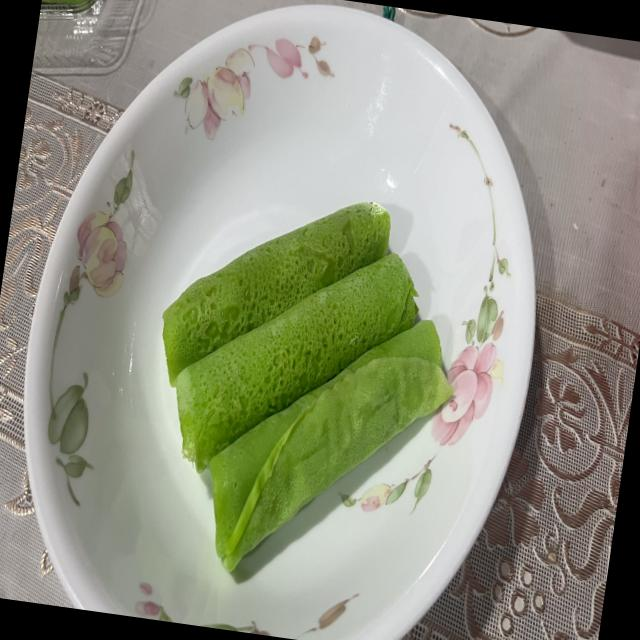Kuih-Ketayap: (210, 321, 453, 572), (176, 254, 416, 472), (163, 201, 391, 387)
